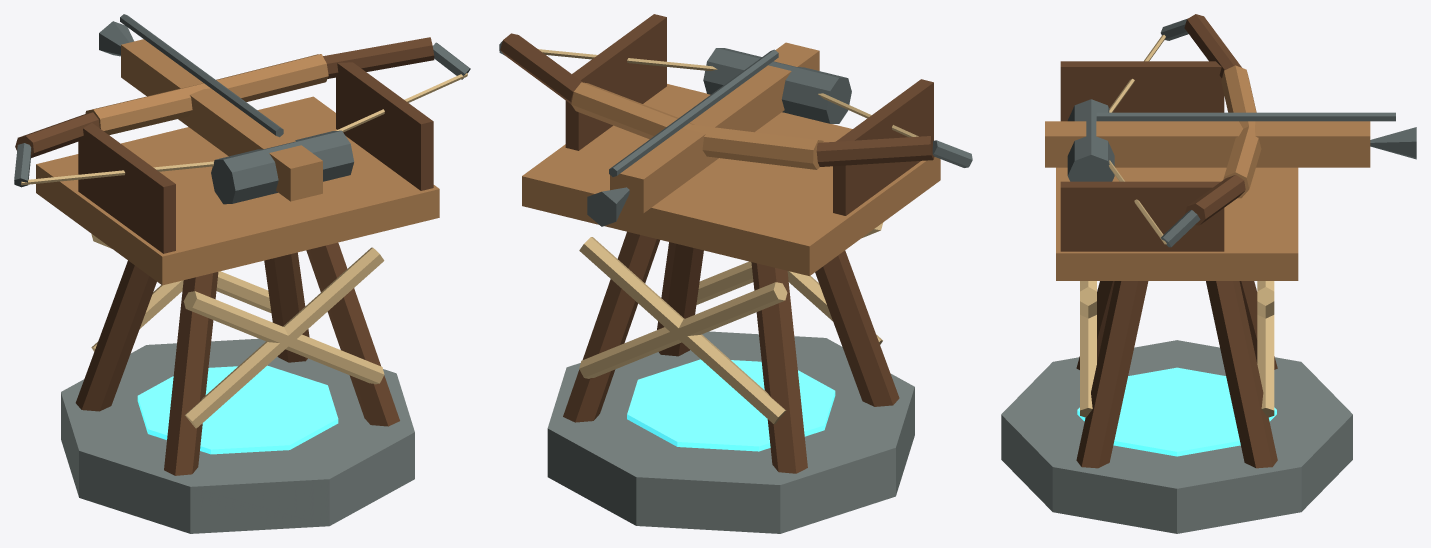
Rendered from tower-ballista.glb.
3 views of the same model, side by side, from view 1: azimuth 30°, elevation 25°; view 2: azimuth 150°, elevation 25°; view 3: azimuth 270°, elevation 25° (orthographic). The views are drawn at different scales.
Visible parts, largest first — view 1: StoneFoot, GunnerDeck, RuneInlay, BallistaStock, DeckRail1.03, DeckRail-1.03, SplayedLeg0, SplayedLeg2, SplayedLeg1, Windlass, CrossBraceA-0.64, CrossBraceB-0.64 (+13 smaller); view 2: StoneFoot, GunnerDeck, RuneInlay, BallistaStock, SplayedLeg2, DeckRail1.03, DeckRail-1.03, SplayedLeg0, SplayedLeg3, CrossBraceA0.64, Windlass, CrossBraceB0.64 (+11 smaller); view 3: StoneFoot, GunnerDeck, BallistaStock, DeckRail1.03, RuneInlay, DeckRail-1.03, SplayedLeg1, SplayedLeg3, LoadedBolt, Windlass, CrossBraceB0.64, CrossBraceB-0.64 (+9 smaller).
Boxes of the visible parts, left/top/right/bottom form: StoneFoot: left=61, top=338, right=414, bottom=533; GunnerDeck: left=36, top=96, right=439, bottom=285; RuneInlay: left=137, top=365, right=338, bottom=454; BallistaStock: left=121, top=39, right=322, bottom=201; DeckRail1.03: left=336, top=62, right=433, bottom=190; DeckRail-1.03: left=78, top=123, right=175, bottom=253; SplayedLeg0: left=164, top=272, right=218, bottom=475; SplayedLeg2: left=75, top=260, right=156, bottom=411; SplayedLeg1: left=306, top=242, right=399, bottom=426; Windlass: left=211, top=130, right=354, bottom=204; CrossBraceA-0.64: left=185, top=247, right=384, bottom=428; CrossBraceB-0.64: left=183, top=291, right=384, bottom=384; StoneFoot: left=547, top=331, right=914, bottom=533; GunnerDeck: left=522, top=84, right=940, bottom=275; RuneInlay: left=627, top=359, right=835, bottom=451; BallistaStock: left=610, top=42, right=819, bottom=213; SplayedLeg2: left=751, top=262, right=807, bottom=473; DeckRail1.03: left=565, top=14, right=666, bottom=150; DeckRail-1.03: left=833, top=79, right=933, bottom=215; SplayedLeg0: left=815, top=250, right=899, bottom=406; SplayedLeg3: left=563, top=231, right=659, bottom=422; CrossBraceA0.64: left=579, top=237, right=786, bottom=424; Windlass: left=703, top=48, right=851, bottom=123; CrossBraceB0.64: left=579, top=282, right=787, bottom=378; StoneFoot: left=1001, top=340, right=1352, bottom=533; GunnerDeck: left=1056, top=167, right=1298, bottom=280; BallistaStock: left=1045, top=121, right=1370, bottom=167; DeckRail1.03: left=1060, top=181, right=1224, bottom=251; RuneInlay: left=1077, top=367, right=1276, bottom=456; DeckRail-1.03: left=1060, top=61, right=1224, bottom=121; SplayedLeg1: left=1076, top=281, right=1148, bottom=468; SplayedLeg3: left=1206, top=281, right=1277, bottom=468; LoadedBolt: left=1096, top=112, right=1395, bottom=121; Windlass: left=1067, top=99, right=1114, bottom=181; CrossBraceB0.64: left=1257, top=281, right=1274, bottom=417; CrossBraceB-0.64: left=1080, top=281, right=1096, bottom=417.
Bounding box in the file's own units: 3.65 × 2.79 × 3.
